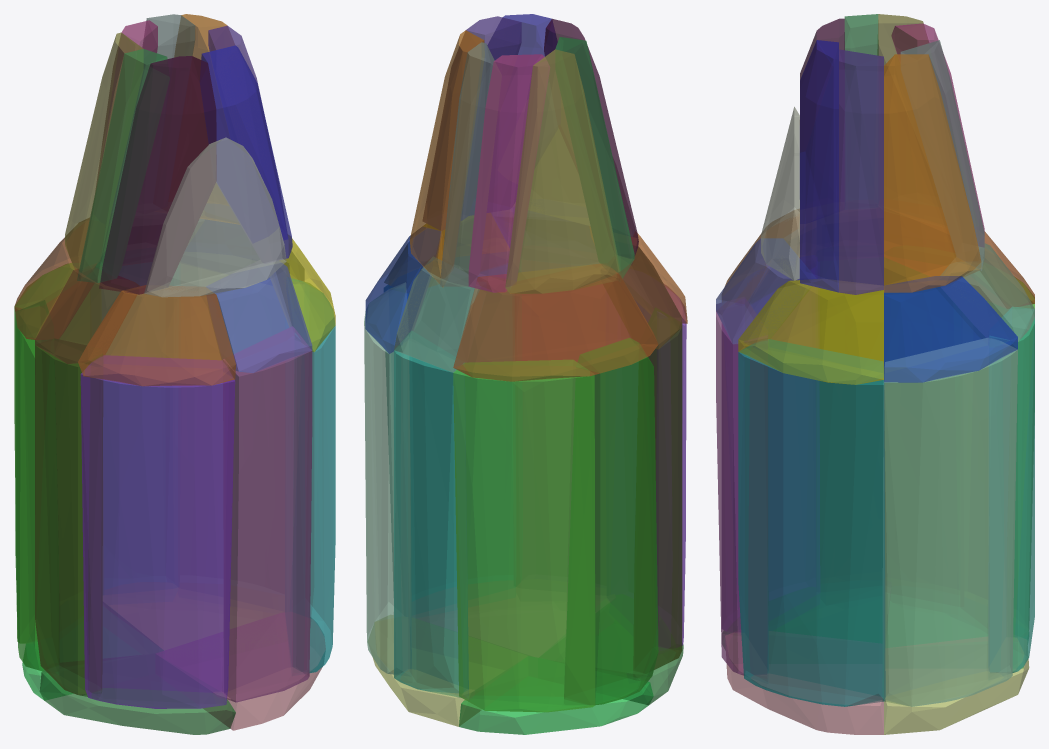
3 views of the same model, side by side, from view 1: azimuth 30°, elevation 25°; view 2: azimuth 150°, elevation 25°; view 3: azimuth 270°, elevation 25° (orthographic).
Parts seen in each view (by area): view 1: Shape_IndexedFaceSet.022, Shape_IndexedFaceSet.024, Shape_IndexedFaceSet.018, Shape_IndexedFaceSet.020, Shape_IndexedFaceSet.009, Shape_IndexedFaceSet.016, Shape_IndexedFaceSet, Shape_IndexedFaceSet.026, Shape_IndexedFaceSet.014, Shape_IndexedFaceSet.015, Shape_IndexedFaceSet.023, Shape_IndexedFaceSet.013 (+16 smaller); view 2: Shape_IndexedFaceSet.014, Shape_IndexedFaceSet.015, Shape_IndexedFaceSet.026, Shape_IndexedFaceSet.016, Shape_IndexedFaceSet.006, Shape_IndexedFaceSet.005, Shape_IndexedFaceSet.024, Shape_IndexedFaceSet.020, Shape_IndexedFaceSet.018, Shape_IndexedFaceSet.022, Shape_IndexedFaceSet.007, Shape_IndexedFaceSet.011 (+16 smaller); view 3: Shape_IndexedFaceSet.026, Shape_IndexedFaceSet.018, Shape_IndexedFaceSet.015, Shape_IndexedFaceSet.020, Shape_IndexedFaceSet.011, Shape_IndexedFaceSet.022, Shape_IndexedFaceSet.024, Shape_IndexedFaceSet.016, Shape_IndexedFaceSet.027, Shape_IndexedFaceSet.019, Shape_IndexedFaceSet.014, Shape_IndexedFaceSet.012 (+16 smaller).
Boxes of the visible parts, box(x1,y1,x2,y2) form: Shape_IndexedFaceSet.022: box(80, 355, 235, 708); Shape_IndexedFaceSet.024: box(223, 326, 312, 702); Shape_IndexedFaceSet.018: box(180, 264, 284, 595); Shape_IndexedFaceSet.020: box(35, 338, 102, 696); Shape_IndexedFaceSet.009: box(99, 56, 216, 294); Shape_IndexedFaceSet.016: box(102, 262, 174, 589); Shape_IndexedFaceSet: box(144, 137, 286, 297); Shape_IndexedFaceSet.026: box(289, 278, 335, 672); Shape_IndexedFaceSet.014: box(14, 263, 91, 643); Shape_IndexedFaceSet.015: box(15, 300, 59, 671); Shape_IndexedFaceSet.023: box(78, 285, 235, 386); Shape_IndexedFaceSet.013: box(200, 45, 292, 263); Shape_IndexedFaceSet.014: box(453, 360, 595, 712); Shape_IndexedFaceSet.015: box(564, 338, 658, 705); Shape_IndexedFaceSet.026: box(384, 264, 513, 601); Shape_IndexedFaceSet.016: box(394, 331, 468, 697); Shape_IndexedFaceSet.006: box(505, 49, 621, 293); Shape_IndexedFaceSet.005: box(453, 264, 658, 381); Shape_IndexedFaceSet.024: box(521, 260, 605, 588); Shape_IndexedFaceSet.020: box(633, 307, 682, 673); Shape_IndexedFaceSet.018: box(364, 282, 411, 674); Shape_IndexedFaceSet.022: box(611, 284, 686, 648); Shape_IndexedFaceSet.007: box(468, 54, 549, 292); Shape_IndexedFaceSet.011: box(409, 30, 484, 287); Shape_IndexedFaceSet.026: box(738, 339, 885, 706); Shape_IndexedFaceSet.018: box(882, 338, 1017, 706); Shape_IndexedFaceSet.015: box(884, 258, 959, 594); Shape_IndexedFaceSet.020: box(820, 257, 882, 583); Shape_IndexedFaceSet.011: box(884, 54, 982, 292); Shape_IndexedFaceSet.022: box(722, 268, 815, 632); Shape_IndexedFaceSet.024: box(716, 297, 767, 675); Shape_IndexedFaceSet.016: box(989, 307, 1034, 672); Shape_IndexedFaceSet.027: box(738, 279, 883, 384); Shape_IndexedFaceSet.019: box(884, 276, 1017, 382); Shape_IndexedFaceSet.014: box(963, 278, 1034, 637); Shape_IndexedFaceSet.012: box(839, 49, 883, 294).
Bounding box in the file's own units: 0.3881 × 0.851 × 0.3881.
